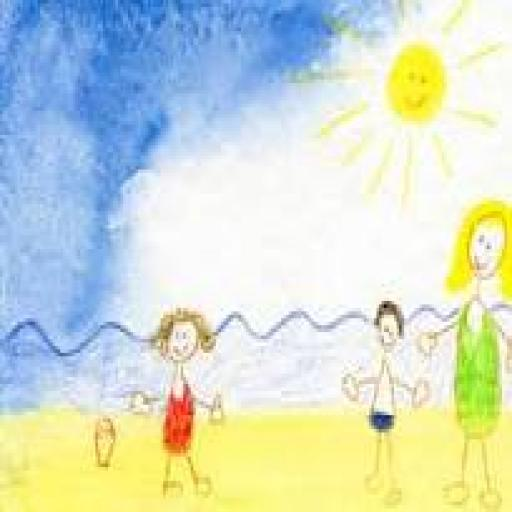person: (418, 191, 512, 502), (122, 290, 238, 503), (332, 286, 430, 508)
